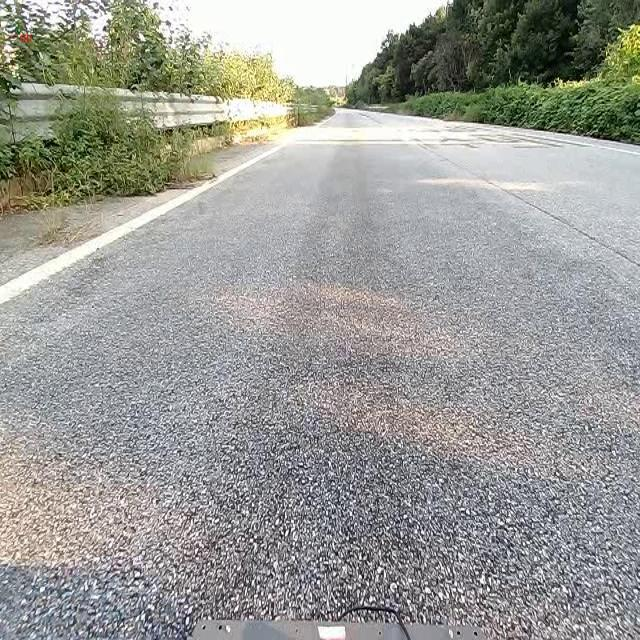Lane: (0, 139, 290, 302), (0, 142, 287, 305)
